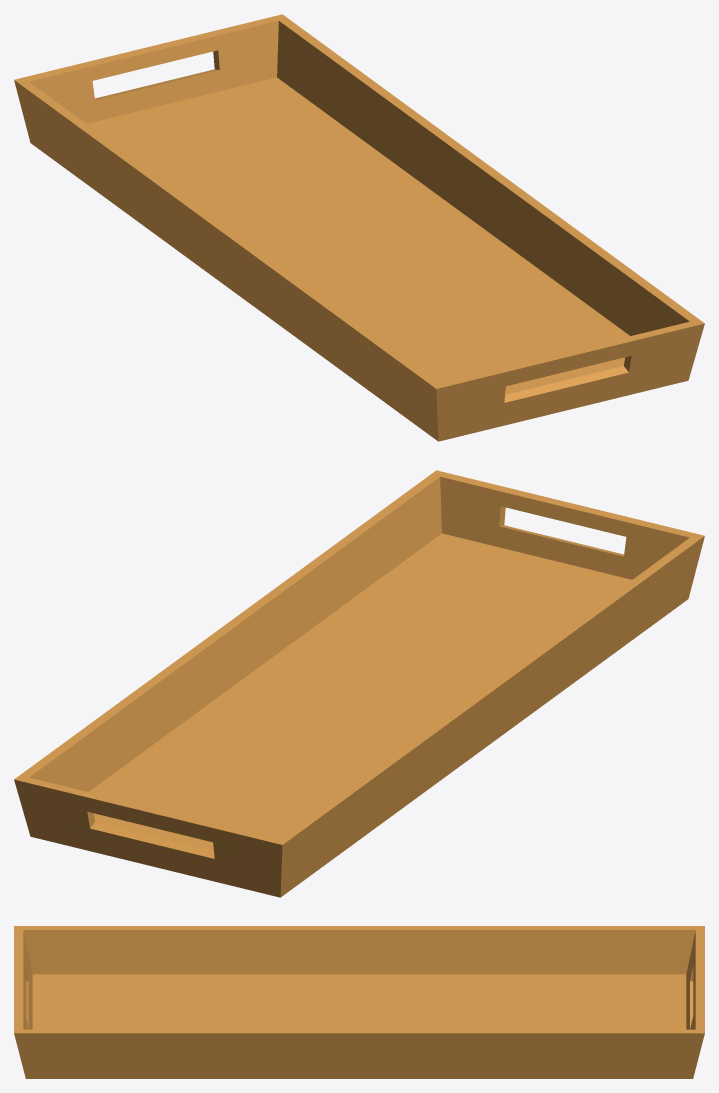
File: FoodProp_4_2_A.fbx
The picture shows the model from 3 angles, top to bottom: view 1: azimuth 30°, elevation 25°; view 2: azimuth 150°, elevation 25°; view 3: azimuth 270°, elevation 25°; orthographic projection. The views are drawn at different scales.
Visible parts, largest first — view 1: FoodProp_4_2_A; view 2: FoodProp_4_2_A; view 3: FoodProp_4_2_A.
Part boxes in pixels (x1=…): FoodProp_4_2_A: x1=14, y1=14, x2=704, y2=441; FoodProp_4_2_A: x1=14, y1=470, x2=704, y2=897; FoodProp_4_2_A: x1=14, y1=926, x2=704, y2=1078.
Size of the model in its own units: 22.66 by 4.86 by 61.74.
